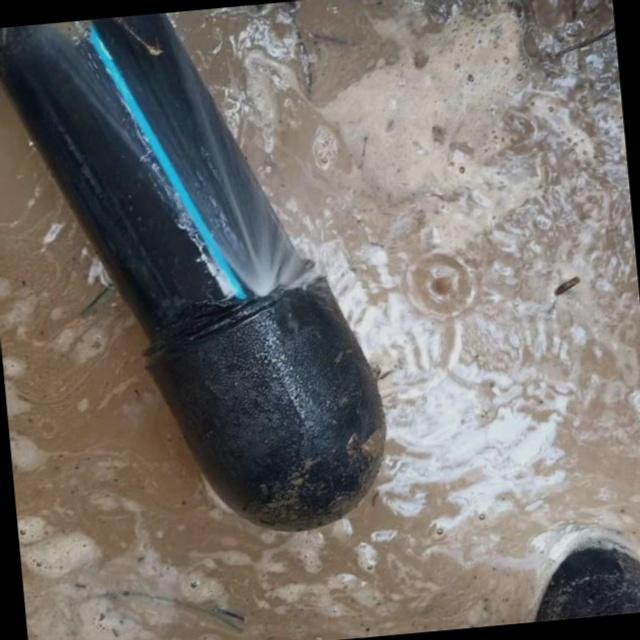Leak: (220, 250, 298, 320)
